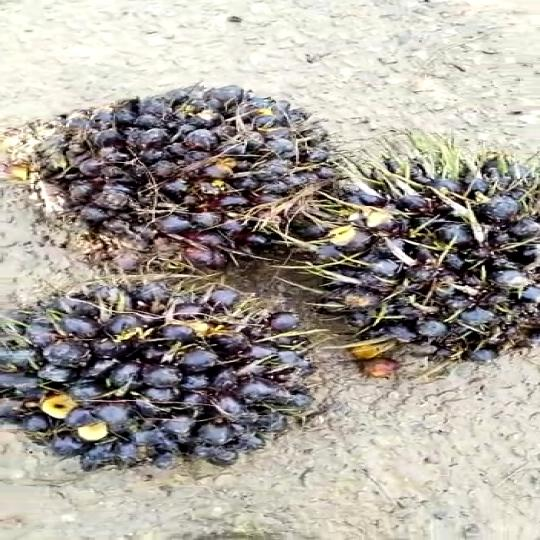mentah: (0, 276, 322, 481), (16, 80, 320, 293), (283, 157, 538, 348)
